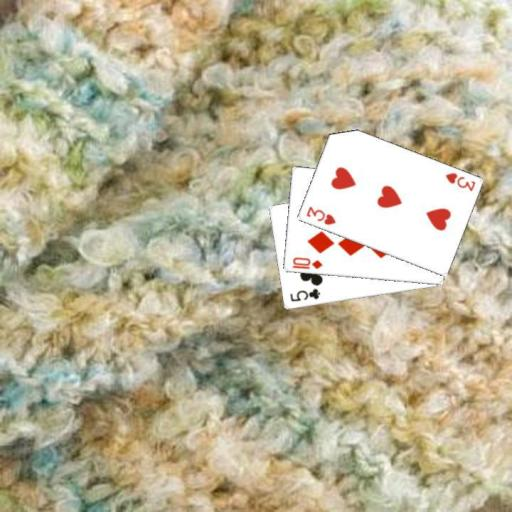10D: (290, 255, 324, 270)
3H: (442, 169, 477, 193), (303, 203, 337, 227)
5C: (287, 286, 322, 303)
